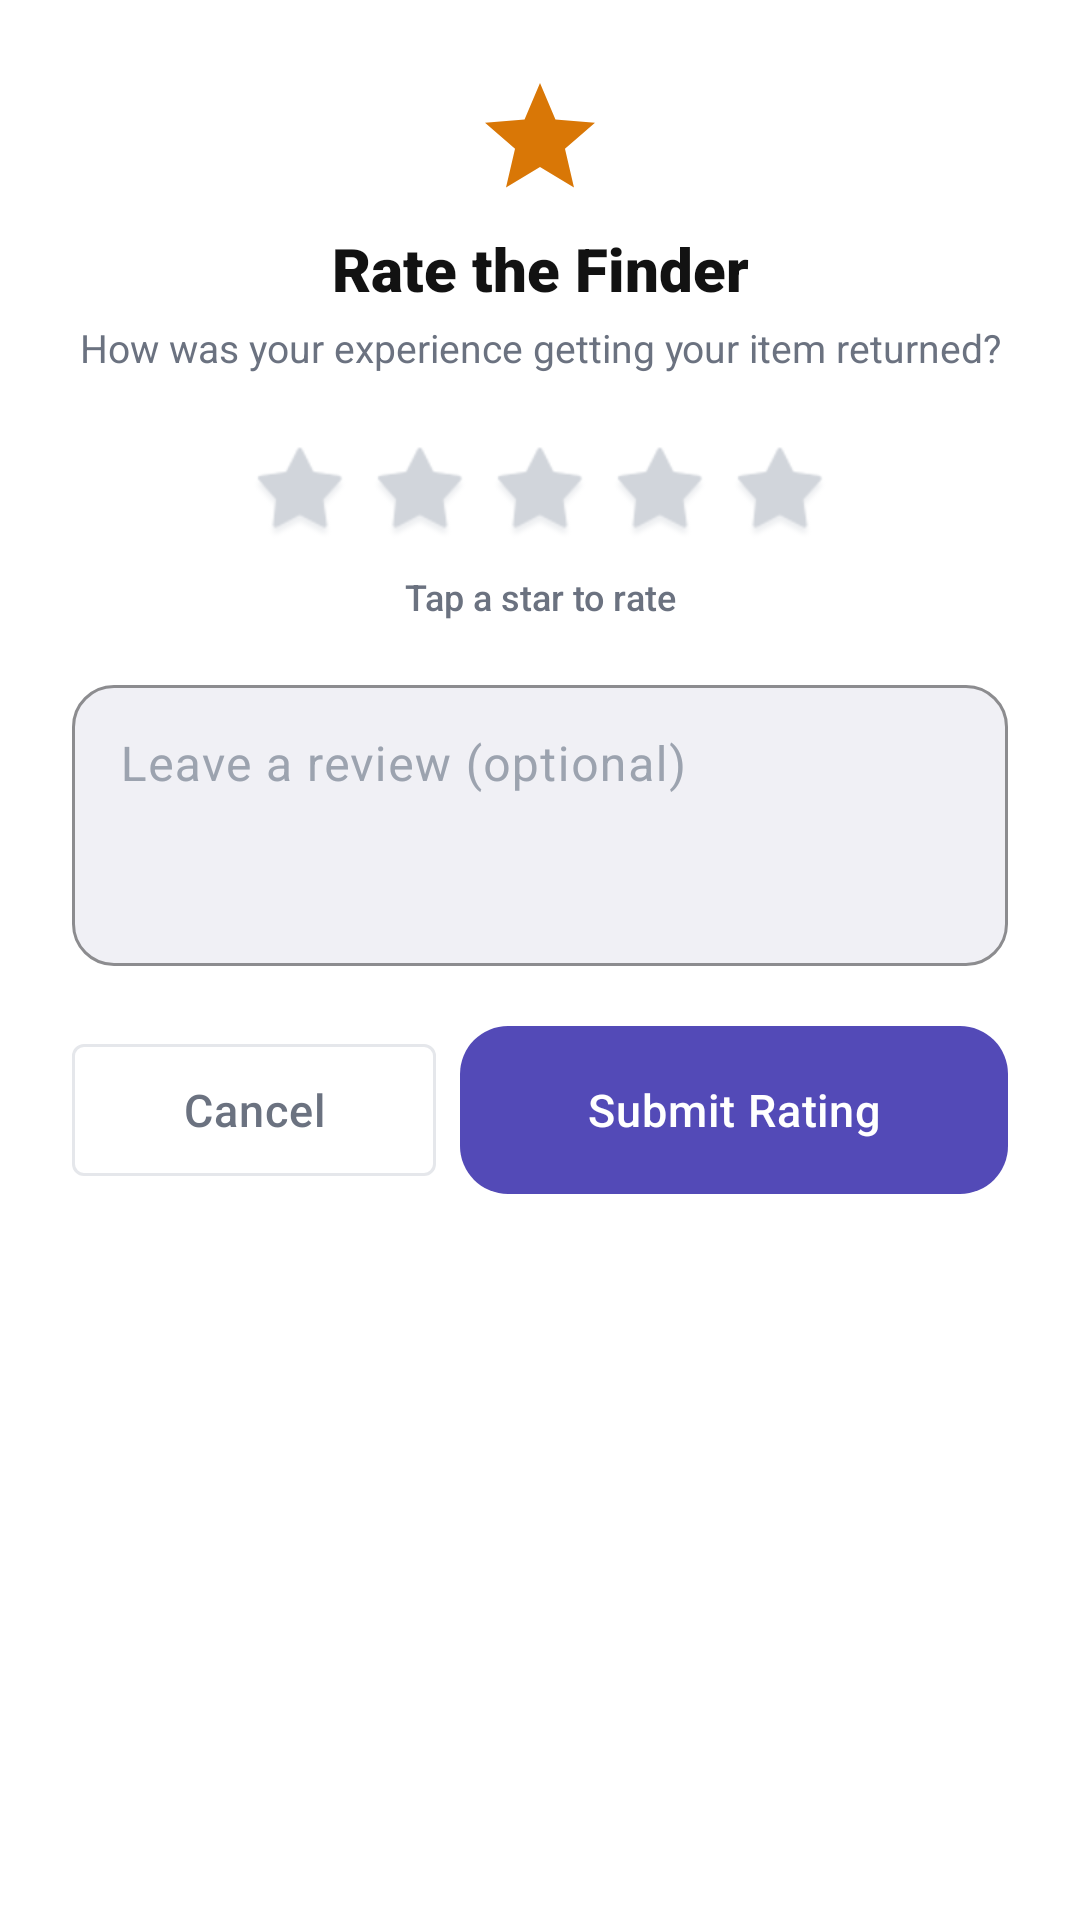

Icons on this 1080w x 1920h Android screen, each with the point to tap as [x,y]:
star off: [299,488], [419,488], [539,488], [659,488], [779,488]
